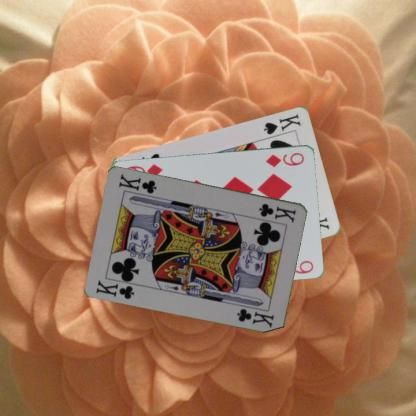9d: (263, 150, 306, 168)
Kc: (94, 274, 140, 300), (256, 200, 298, 223)
Ks: (261, 110, 303, 136)
